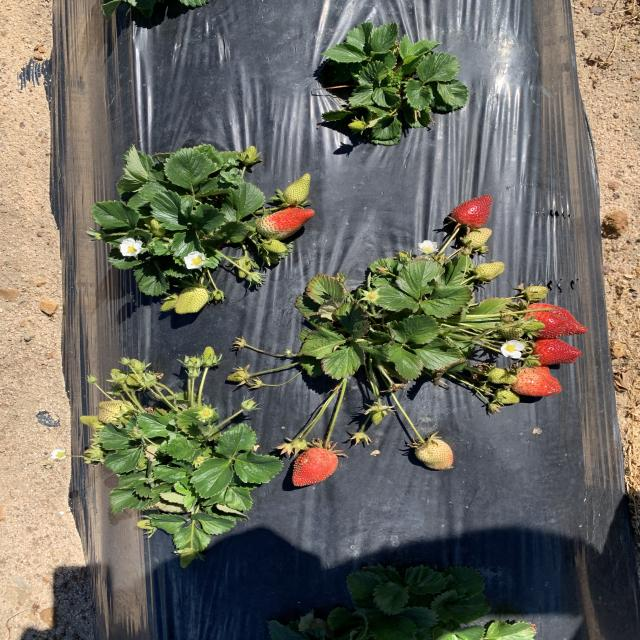unripe: (523, 303, 588, 338), (290, 445, 339, 488), (254, 207, 319, 237), (514, 367, 562, 398), (451, 194, 494, 228), (529, 338, 584, 364)
